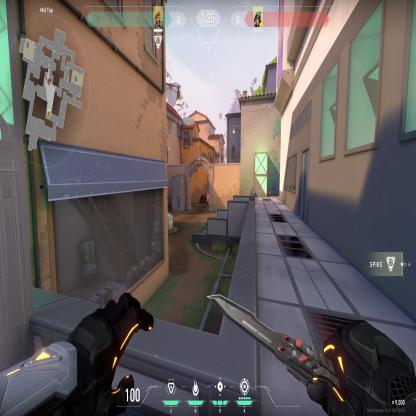enemy: (206, 191, 209, 211)
